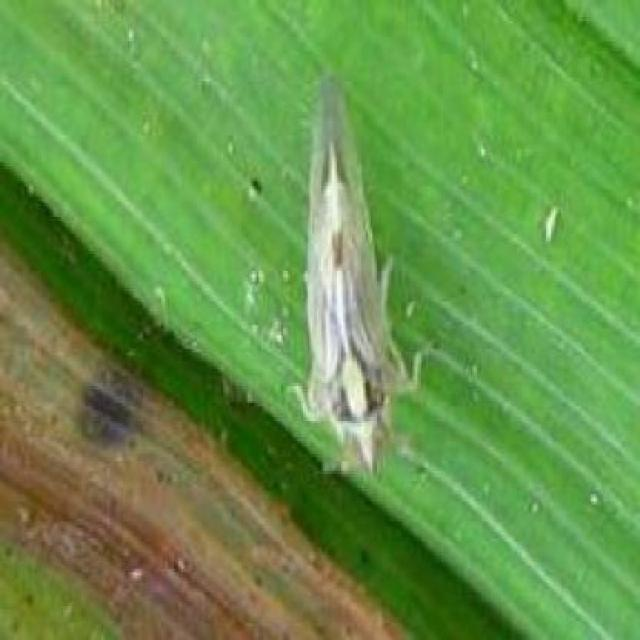brown-planthopper: (292, 71, 417, 484)
